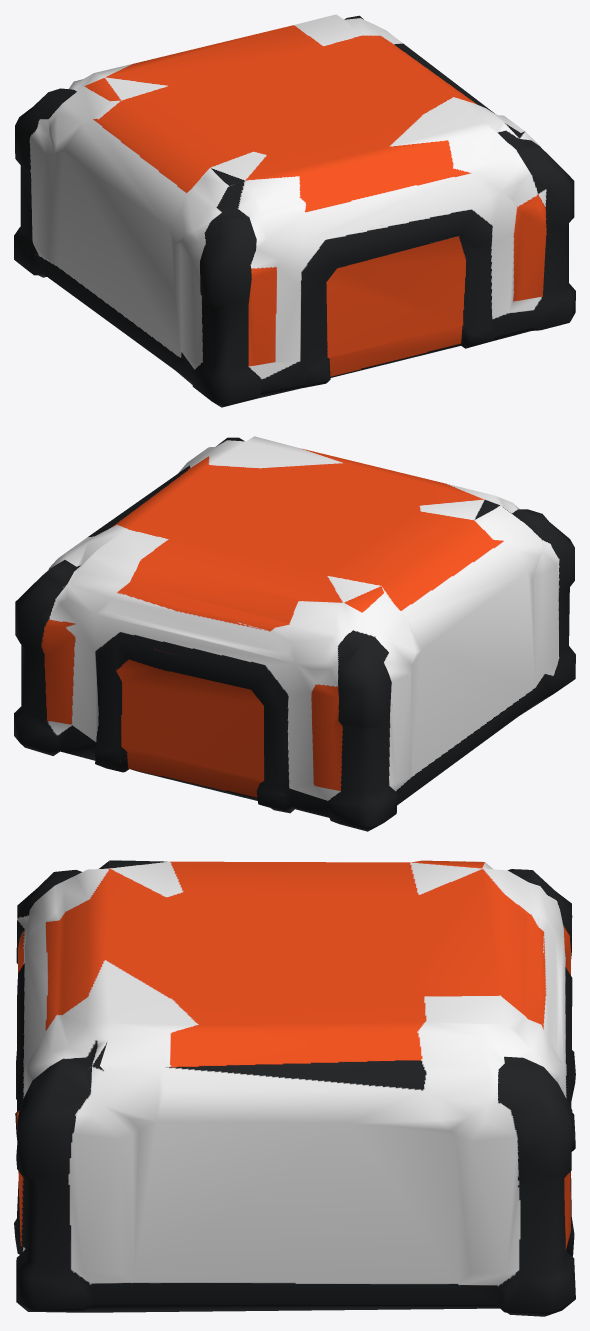
The model's file is storage.glb.
3 views of the same model, one above another, from view 1: azimuth 30°, elevation 25°; view 2: azimuth 150°, elevation 25°; view 3: azimuth 270°, elevation 25° (orthographic). The views are drawn at different scales.
Visible parts, largest first — view 1: BakeLow; view 2: BakeLow; view 3: BakeLow.
Boxes of the visible parts, x1,y1,x2,y2 form: BakeLow: (14,14,575,407); BakeLow: (14,436,575,831); BakeLow: (14,860,575,1316).
Bounding box in the file's own units: 1.6 × 0.8209 × 1.6.
1 material, 1 textured.
